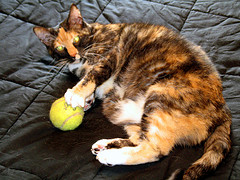tennis ball: (48, 96, 84, 133)
